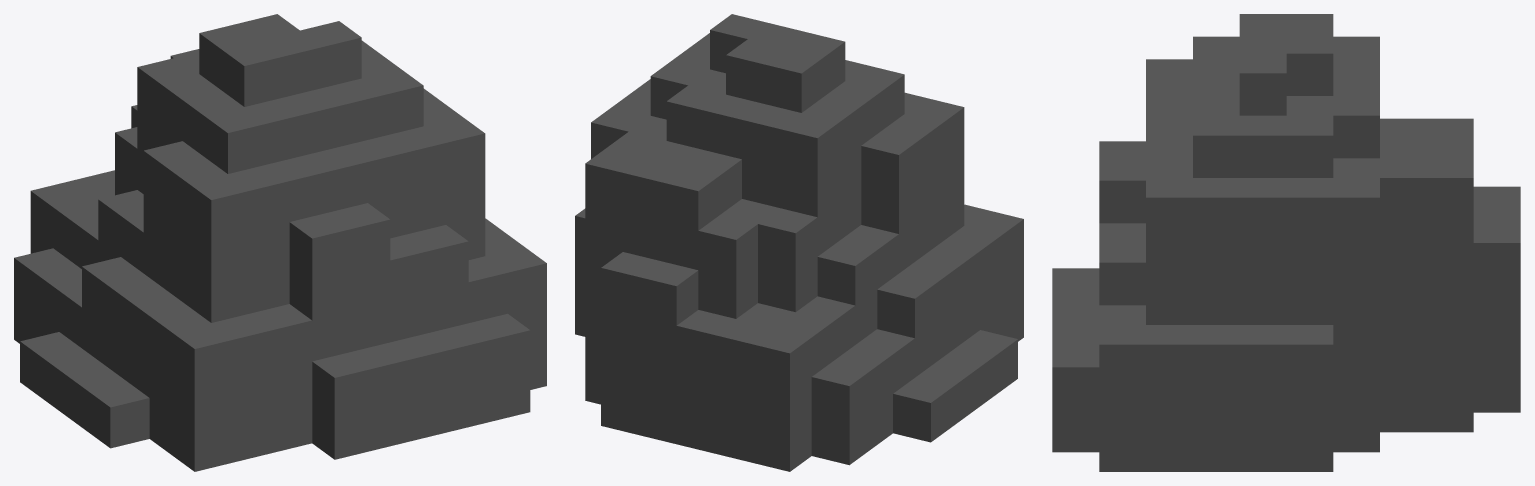
Rendered from foliage_rock_a.glb.
3 renders of one model, left to right at view 1: azimuth 30°, elevation 25°; view 2: azimuth 150°, elevation 25°; view 3: azimuth 270°, elevation 25°, orthographic. The views are drawn at different scales.
Parts seen in each view (by area): view 1: foliage_rock_a; view 2: foliage_rock_a; view 3: foliage_rock_a.
Boxes of the visible parts, x1=… form: foliage_rock_a: x1=14, y1=14, x2=546, y2=471; foliage_rock_a: x1=575, y1=14, x2=1023, y2=471; foliage_rock_a: x1=1052, y1=14, x2=1520, y2=471.
Bounding box in the file's own units: 2 × 1.6 × 2.
Materials: 1 (1 with a texture image).
